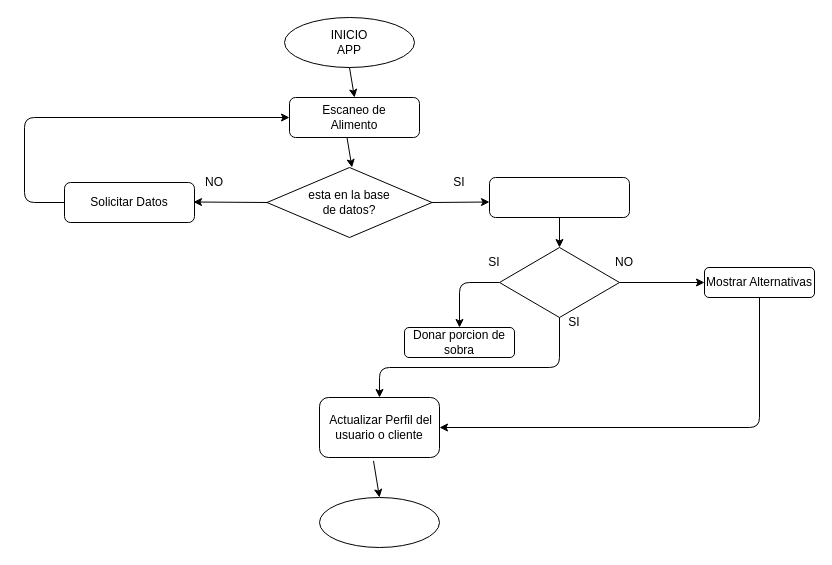
This 832x565 diagram has some shape labels left out. The shapes that lost their labels are listed below. From the top down, each one's centre as x and y in pixels, then its label:
the point at 559,197: Verificar Informacion Nutricional
the point at 559,282: es saludable?
the point at 379,522: FIN (Cliente finalizo y cerro app)
